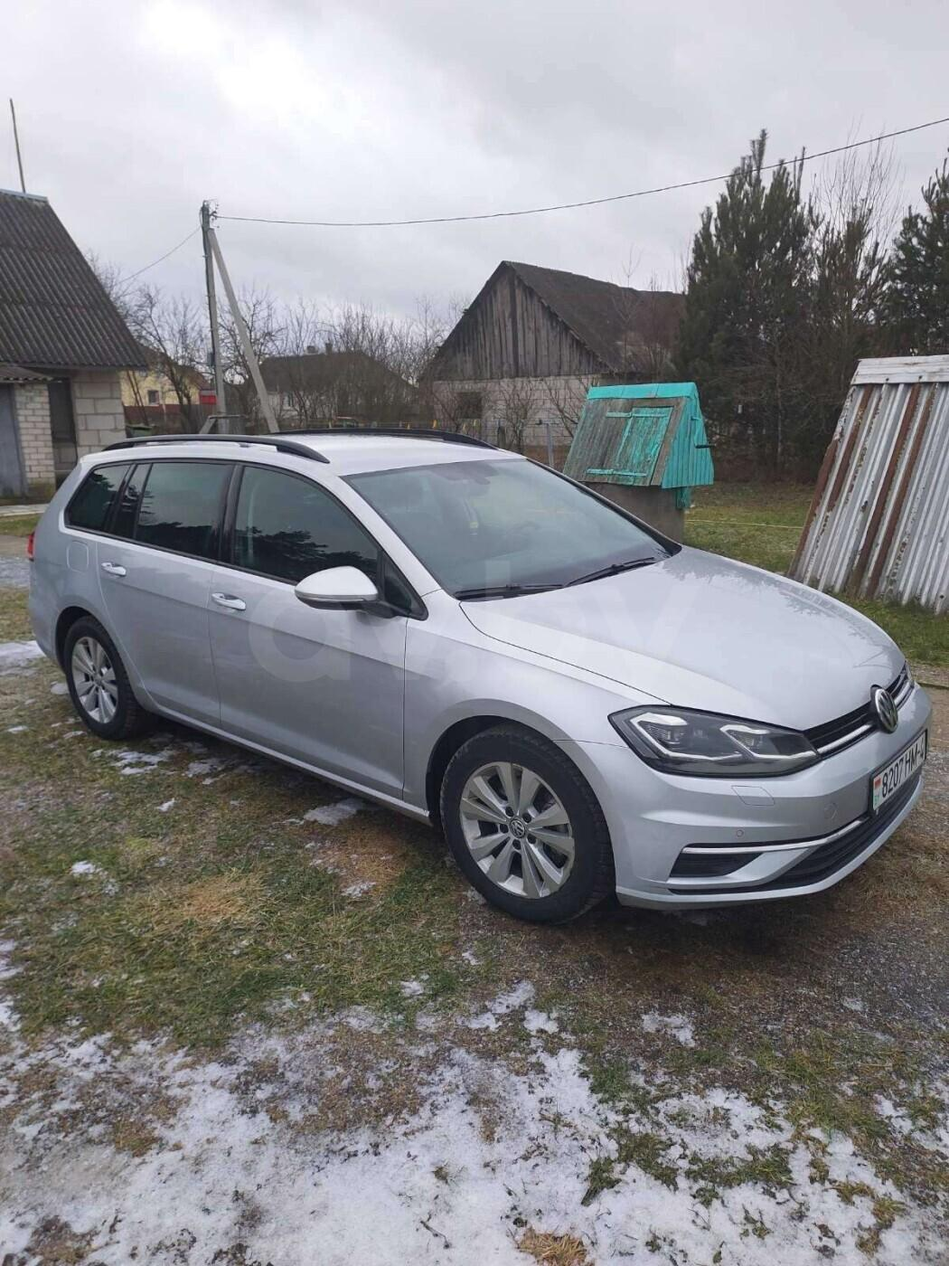Golf_2017-2021: (25, 430, 930, 929)
